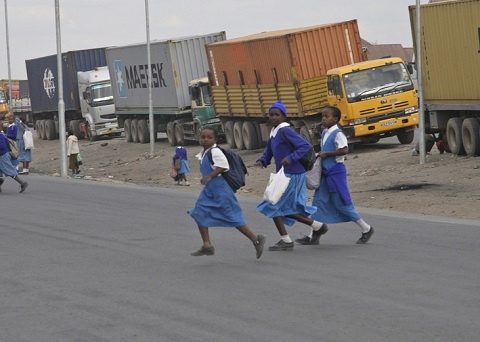pedestrian: (183, 127, 271, 266), (300, 98, 376, 248), (255, 101, 326, 250)
